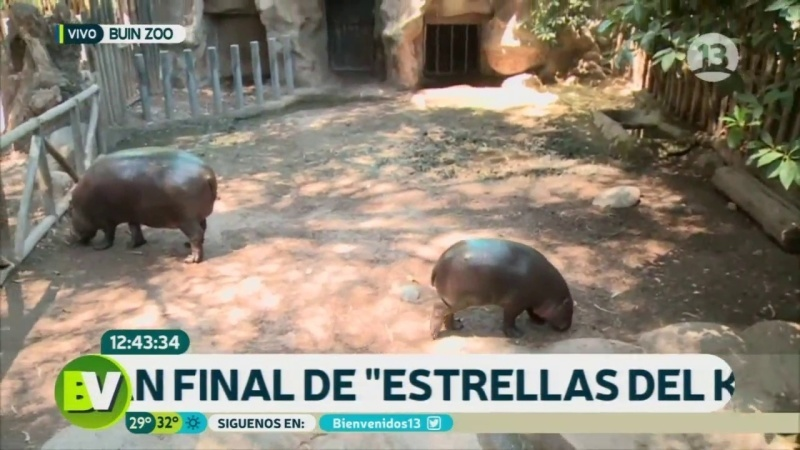hipopotamo: (51, 134, 246, 286), (408, 217, 586, 347)
